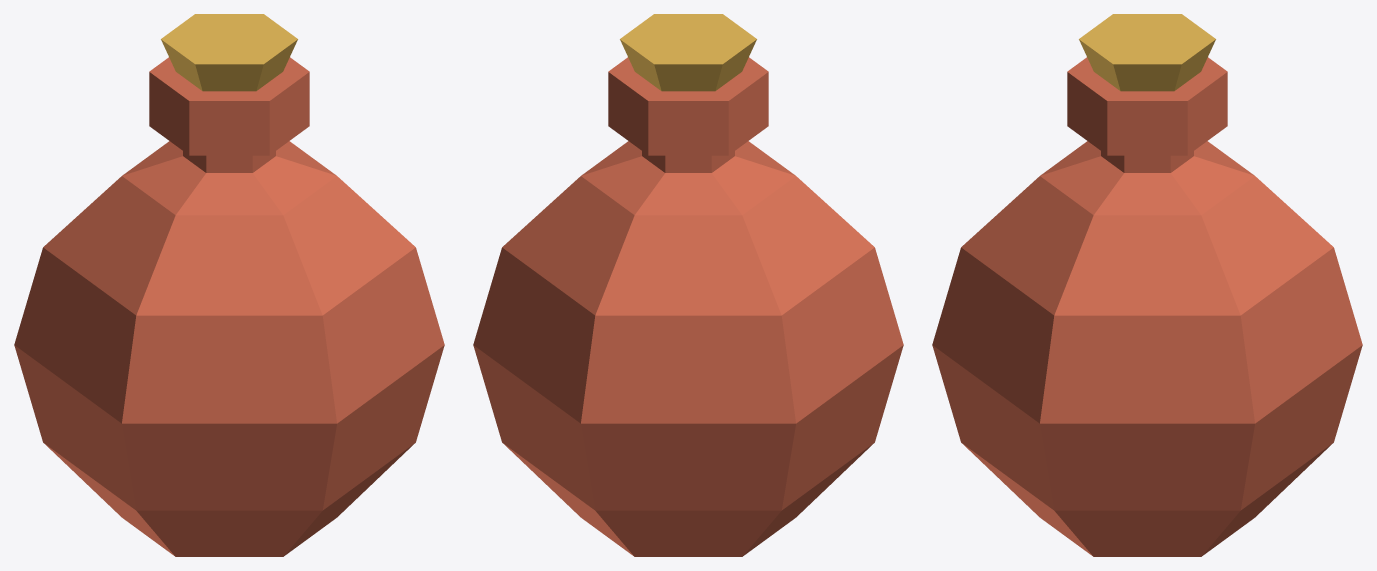
The model's file is Vial 01.fbx.
3 renders of one model, left to right at view 1: azimuth 30°, elevation 25°; view 2: azimuth 150°, elevation 25°; view 3: azimuth 270°, elevation 25°, orthographic.
Parts seen in each view (by area): view 1: Vial.01; view 2: Vial.01; view 3: Vial.01.
Part boxes in pixels (x1,y1,x2,y2): Vial.01: (14,14,444,556); Vial.01: (473,14,903,556); Vial.01: (932,14,1362,556).
Bounding box in the file's own units: 9.86 × 13.97 × 11.39.
